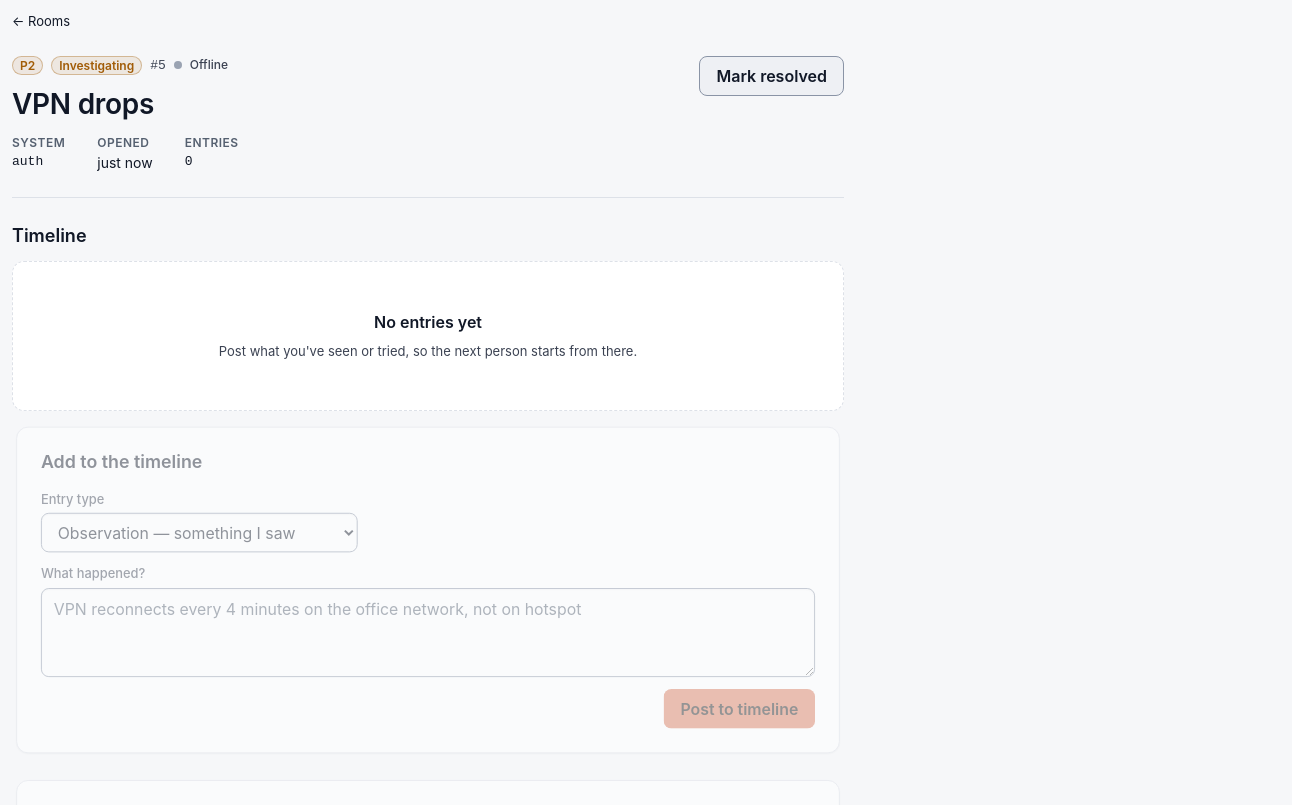
Test: RoomDetailsPage › resolves the room from the server response and hides the button
The width and height of the screenshot is (1292, 805).
Click the button "Mark resolved": (772, 76) [700,56,844,96]
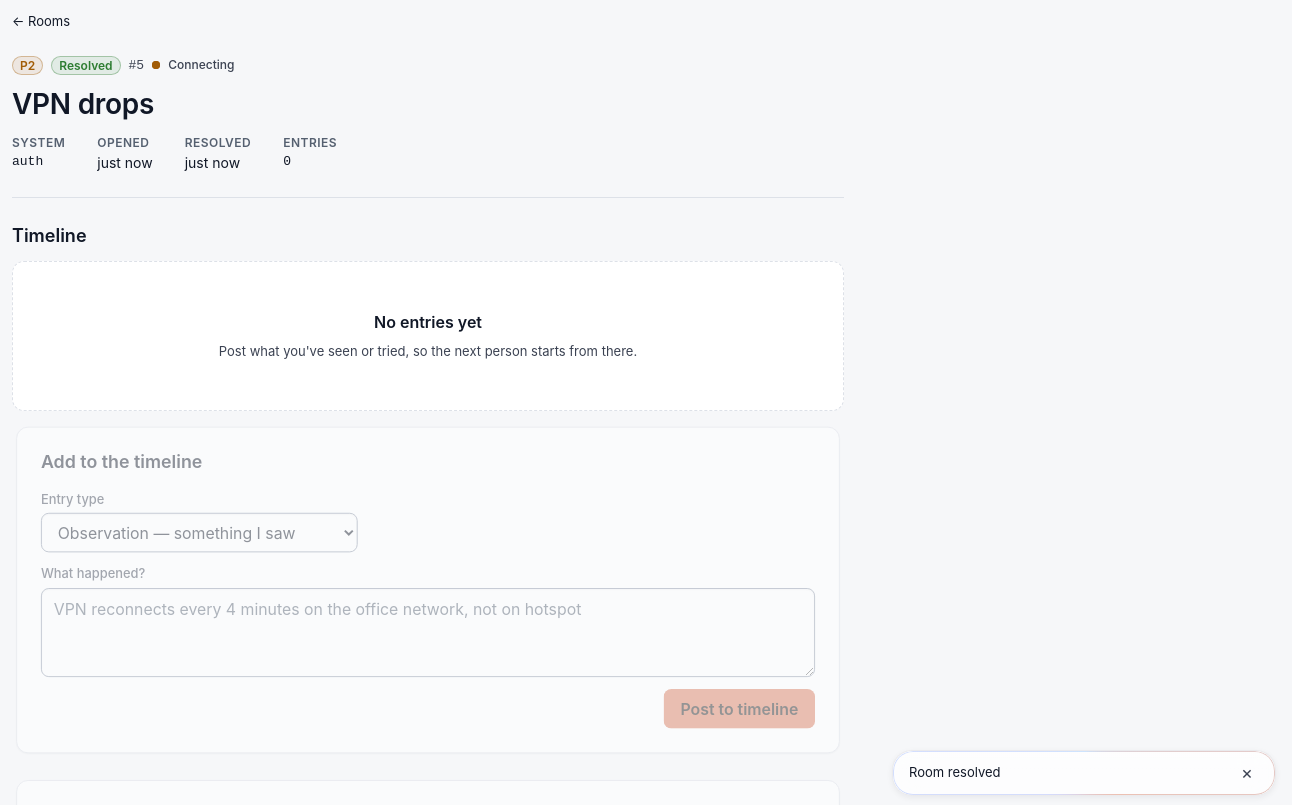
Now the text "Resolved" next to "P2" is shown, box [59,58,112,73]
Now the button "Mark resolved" is gone
